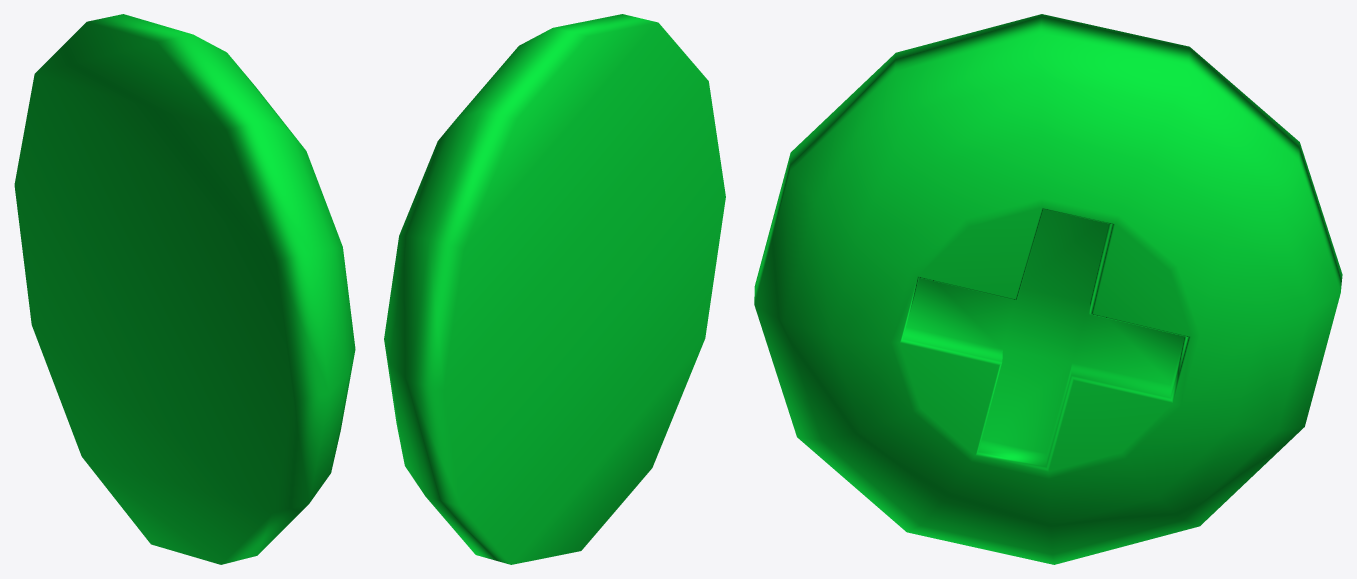
Rendered from Screw_B.fbx.
3 renders of one model, left to right at view 1: azimuth 30°, elevation 25°; view 2: azimuth 150°, elevation 25°; view 3: azimuth 270°, elevation 25°, orthographic. The views are drawn at different scales.
Visible parts, largest first — view 1: Screw_B; view 2: Screw_B; view 3: Screw_B.
Boxes of the visible parts, <box> form: Screw_B: <box>14,14,355,564</box>; Screw_B: <box>384,14,725,564</box>; Screw_B: <box>754,14,1342,564</box>.
Bounding box in the file's own units: 0.197 × 0.82 × 0.8202.
